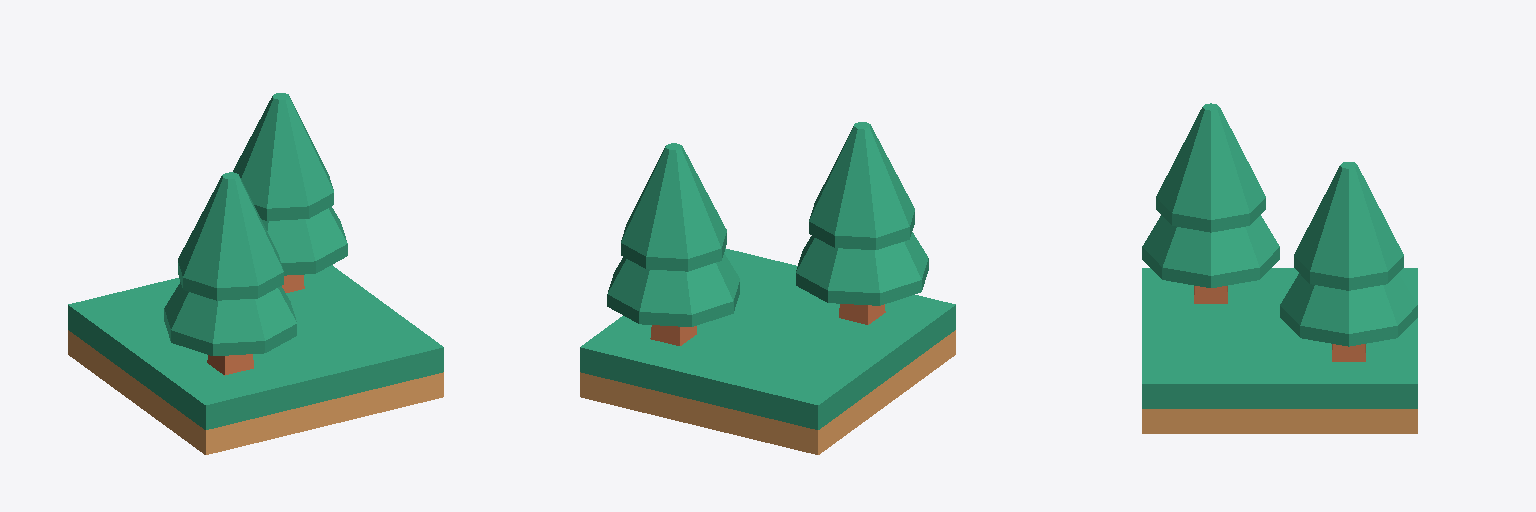
File: tile_treeDouble.obj
3 views of the same model, side by side, from view 1: azimuth 30°, elevation 25°; view 2: azimuth 150°, elevation 25°; view 3: azimuth 270°, elevation 25° (orthographic).
Visible parts, largest first — view 1: tile_treeDouble, tree; view 2: tile_treeDouble, tree; view 3: tile_treeDouble, tree.
Part boxes in pixels (bbox=[...]): tile_treeDouble: bbox=[68, 265, 443, 454]; tree: bbox=[164, 93, 347, 375]; tile_treeDouble: bbox=[580, 248, 955, 454]; tree: bbox=[607, 122, 928, 345]; tile_treeDouble: bbox=[1142, 268, 1417, 433]; tree: bbox=[1142, 103, 1417, 361].
Size of the model in its own units: 1 by 0.96 by 1.